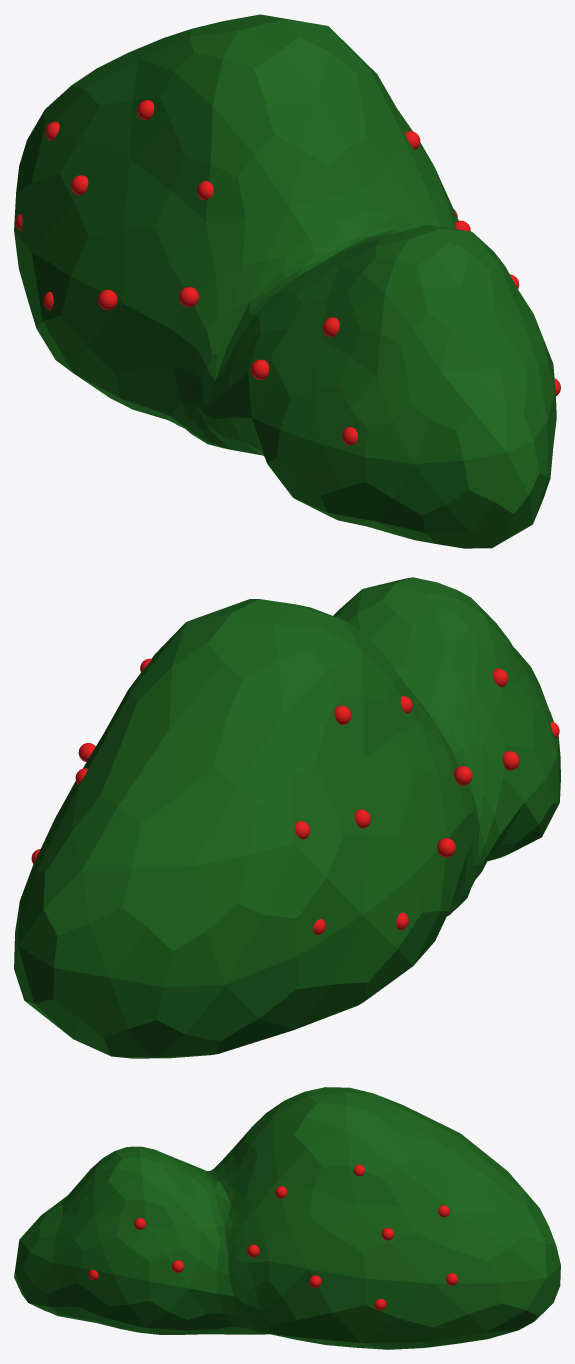
The model's file is bushblend.fbx.
The picture shows the model from 3 angles, top to bottom: view 1: azimuth 30°, elevation 25°; view 2: azimuth 150°, elevation 25°; view 3: azimuth 270°, elevation 25°; orthographic projection. The views are drawn at different scales.
Visible parts, largest first — view 1: Icosphere, Sphere.001; view 2: Icosphere, Sphere.001; view 3: Icosphere, Sphere.
Part boxes in pixels (left/top/right/bottom): Icosphere: left=14, top=14, right=556, bottom=548; Sphere.001: left=15, top=100, right=357, bottom=445; Icosphere: left=14, top=577, right=560, bottom=1058; Sphere.001: left=294, top=668, right=559, bottom=934; Icosphere: left=14, top=1087, right=560, bottom=1349; Sphere: left=88, top=1164, right=457, bottom=1310.
Size of the model in its own units: 223 by 221 by 469.
